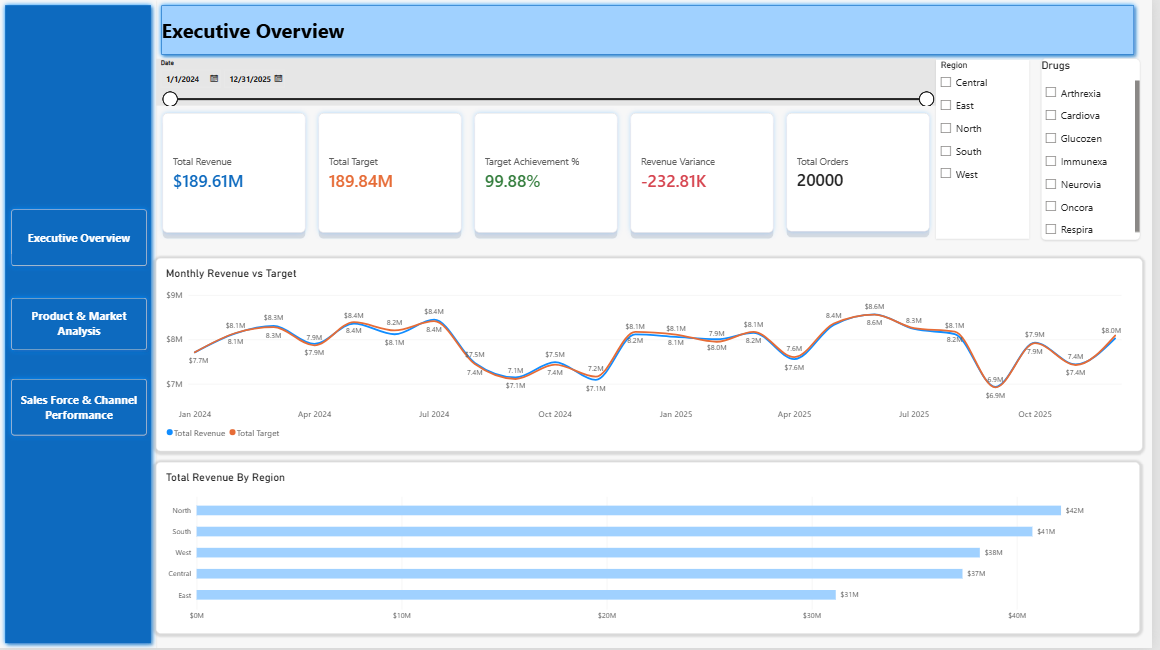

What the dashboard file says about the page in this screenshot:
{"tool":"powerbi","page":{"name":"Page 1","canvas":[1920,1080],"ordinal":0},"visuals":[{"type":"cardVisual","fields":{"Data":["Measures (2).Revenue Variance"]},"box":[1040.3,176.6,260.1,221.9],"z":0},{"type":"cardVisual","fields":{"Data":["Measures (2).Total Orders"]},"box":[1300.3,176.6,260.1,219.5],"z":1000},{"type":"cardVisual","fields":{"Data":["Measures (2).Total Target"]},"box":[520.1,176.6,260.1,221.9],"z":2000},{"type":"cardVisual","fields":{"Data":["Measures (2).Target Achievement %"]},"box":[780.2,176.6,260.1,221.9],"z":3000},{"type":"cardVisual","fields":{"Data":["Measures (2).Total Revenue"]},"box":[260.1,176.6,260.1,221.9],"z":4000},{"type":"shape","box":[0,0,260.1,1080.8],"z":5000},{"type":"shape","box":[260.1,0,1639.1,100.2],"z":6000},{"type":"lineChart","title":"Monthly Revenue vs Target","fields":{"Category":["Pharma_Analytics.Date.Variation.Date Hierarchy.Month"],"Y":["Measures (2).Total Revenue","Measures (2).Total Target"]},"box":[260.1,429.5,1643.9,322.1],"z":7000},{"type":"clusteredBarChart","title":"Total Revenue By Region","fields":{"Category":["Pharma_Analytics.Region"],"Y":["Measures (2).Total Revenue"]},"box":[260.1,770.7,1639.1,286.3],"z":8000},{"type":"slicer","fields":{"Values":["Pharma_Analytics.Date"]},"box":[260.1,97.8,1300.3,78.7],"z":9000},{"type":"slicer","fields":{"Values":["Pharma_Analytics.Region"]},"box":[1560.4,100.2,155.1,298.2],"z":10000},{"type":"slicer","title":"Drugs ","fields":{"Values":["Pharma_Analytics.Drug"]},"box":[1734.6,97.8,164.6,300.6],"z":11000},{"type":"actionButton","box":[9.5,338.8,243.4,112.1],"z":12000},{"type":"actionButton","box":[9.5,486.7,243.4,105],"z":13000},{"type":"actionButton","box":[9.5,622.7,243.4,112.1],"z":14000}]}

Visuals, with their boxes on the page's 1920x1080 design canvas (x1, y1, x2, y2). These are canvas units, not pixel positions in the 1160x650 screenshot, which may show the page scaled, cropped or inside an application window:
cardVisual - Measures (2).Revenue Variance: 1040,177,1300,398
cardVisual - Measures (2).Total Orders: 1300,177,1560,396
cardVisual - Measures (2).Total Target: 520,177,780,398
cardVisual - Measures (2).Target Achievement %: 780,177,1040,398
cardVisual - Measures (2).Total Revenue: 260,177,520,398
shape: 0,0,260,1081
shape: 260,0,1899,100
"Monthly Revenue vs Target" lineChart: 260,430,1904,752
"Total Revenue By Region" clusteredBarChart: 260,771,1899,1057
slicer - Pharma_Analytics.Date: 260,98,1560,176
slicer - Pharma_Analytics.Region: 1560,100,1716,398
"Drugs " slicer: 1735,98,1899,398
actionButton: 10,339,253,451
actionButton: 10,487,253,592
actionButton: 10,623,253,735
